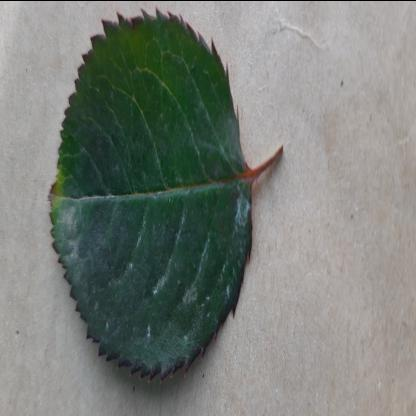normal: (44, 4, 252, 386)
